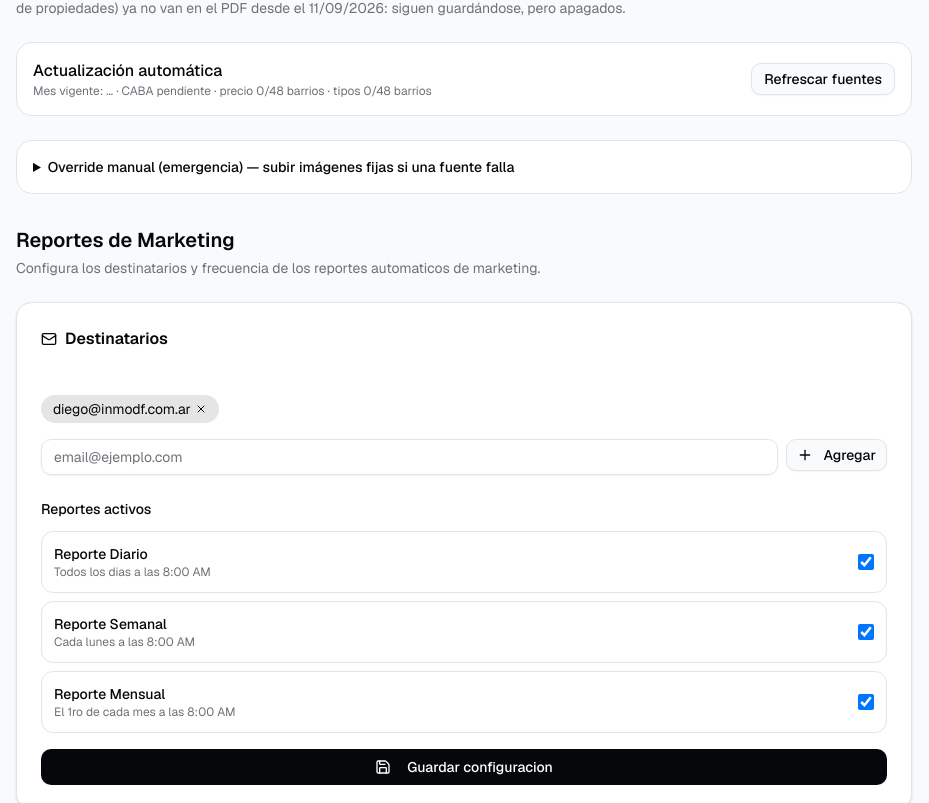
SettingsPage — destinatarios de reportes: no se pudo leer ≠ no hay ninguno › un guardado rechazado se dice; uno exitoso se confirma
(page scrolled)
What coordinates should you click on to do the following:
click the button "Guardar configuracion"
I would click on:
 (464, 767)
Its box is x1=41 y1=749 x2=887 y2=785.
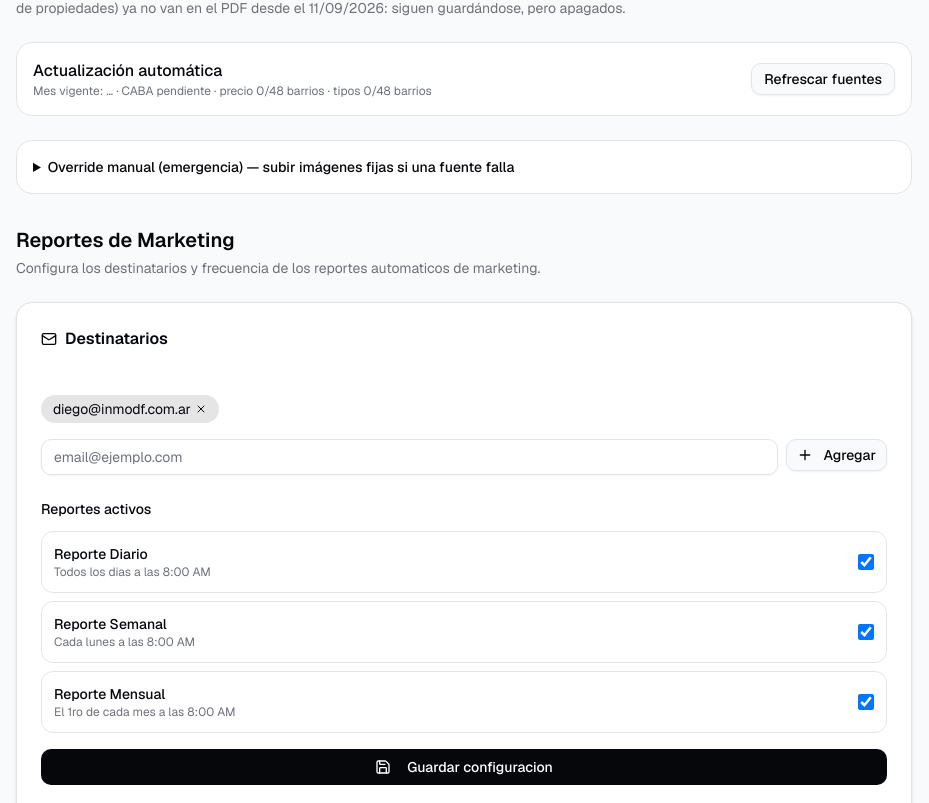
Expected: the text "Configuración guardada" is not shown
What coordinates should you click on to do the following:
click the button "Guardar configuracion"
I would click on:
 (464, 767)
Its box is x1=41 y1=749 x2=887 y2=785.
(page scrolled)
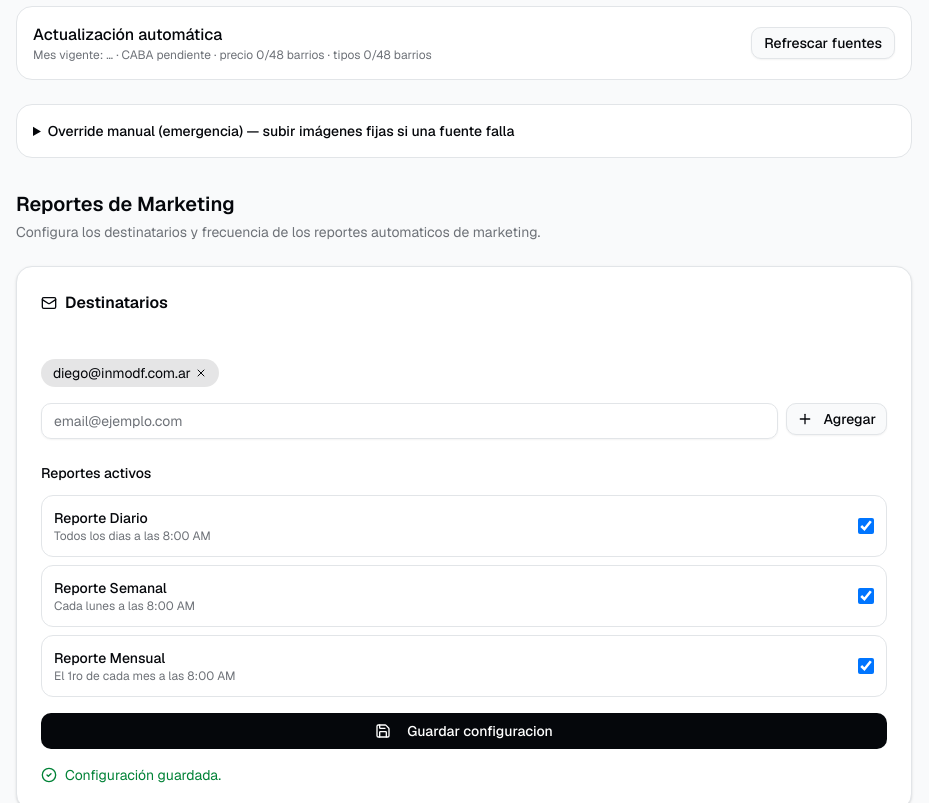
Expected: the text "Configuración guardada." is shown, x1=41 y1=766 x2=221 y2=784
